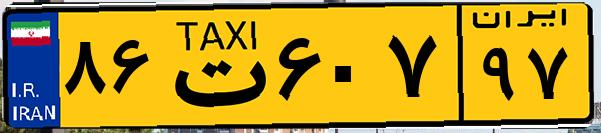0: (330, 28, 385, 110)
6: (270, 28, 330, 110), (110, 28, 158, 98)
7: (385, 28, 445, 110), (525, 38, 570, 115)
8: (57, 26, 110, 100)
9: (475, 38, 525, 113)
ت: (158, 12, 270, 120)
